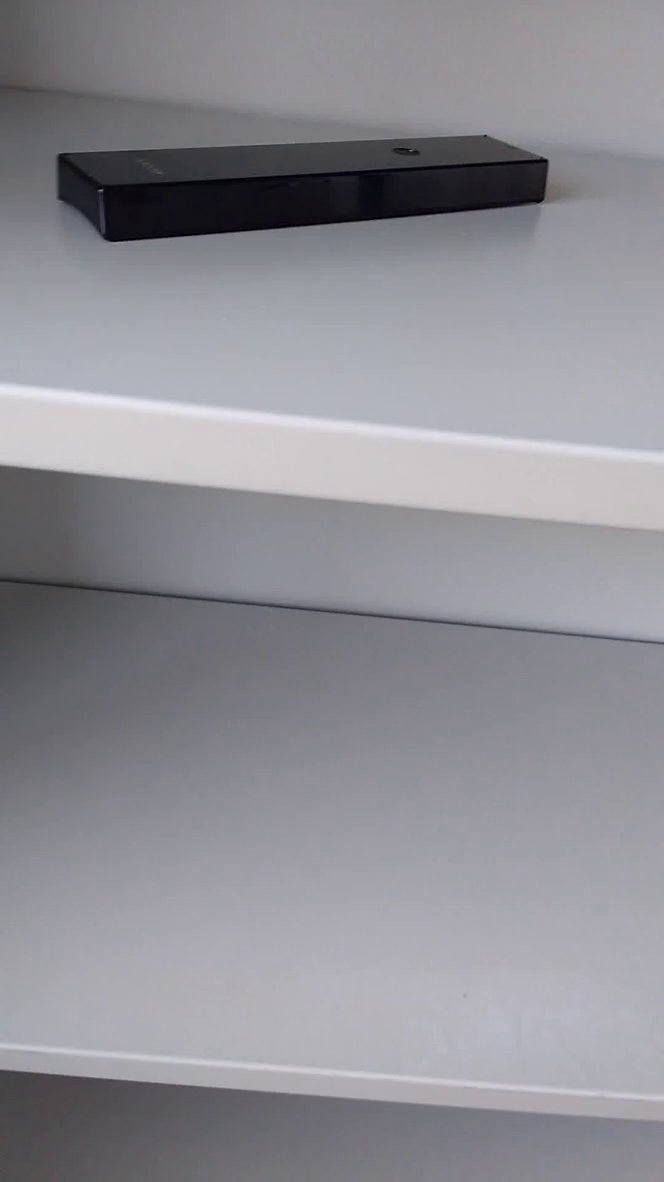remote: (42, 118, 557, 256)
